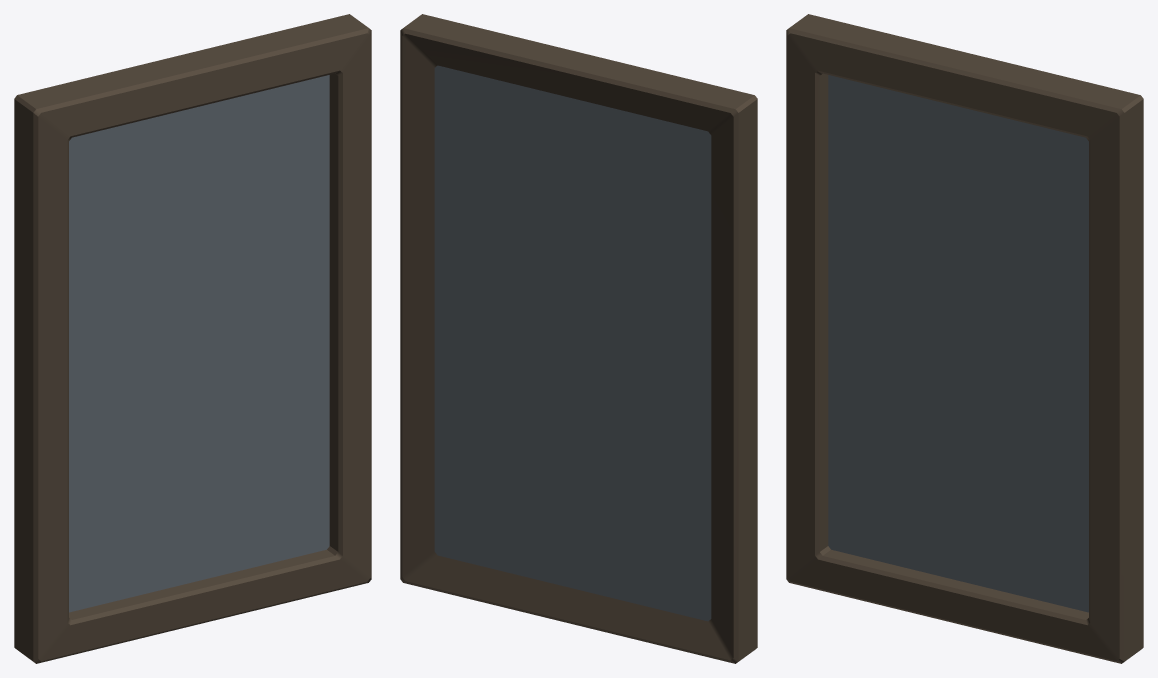
Rendered from WM_PaintingBlue.fbx.
3 views of the same model, side by side, from view 1: azimuth 30°, elevation 25°; view 2: azimuth 150°, elevation 25°; view 3: azimuth 330°, elevation 25° (orthographic).
Parts seen in each view (by area): view 1: pCube36; view 2: pCube36; view 3: pCube36.
Boxes of the visible parts, x1,y1,x2,y2 form: pCube36: [14, 14, 371, 663]; pCube36: [400, 14, 757, 663]; pCube36: [786, 14, 1143, 663].
Size of the model in its own units: 8.54 by 13.38 by 1.02.
